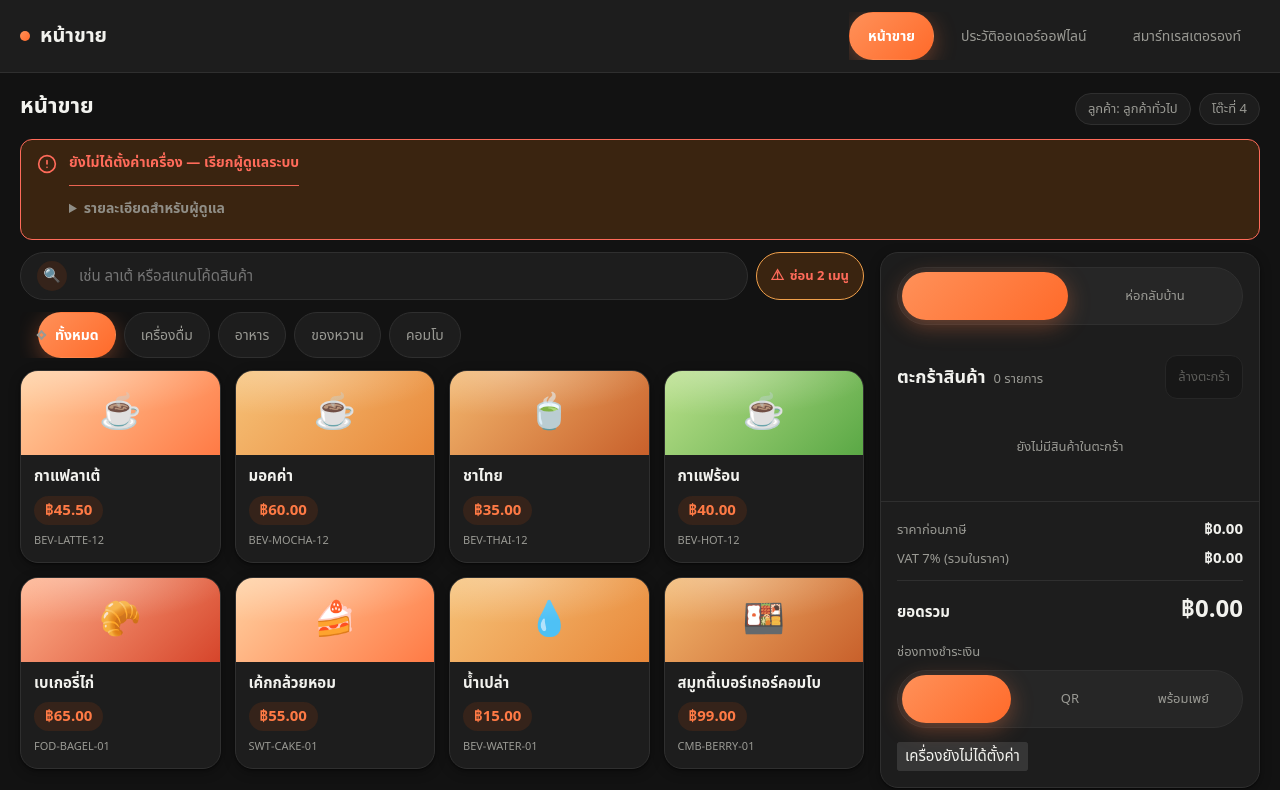
Test: AppShell — the nav › unmounts the sales screen, so coming back is an empty terminal
Click the button with aria-label "เพิ่ม กาแฟลาเต้" at [120, 466], box [20,370,220,562]
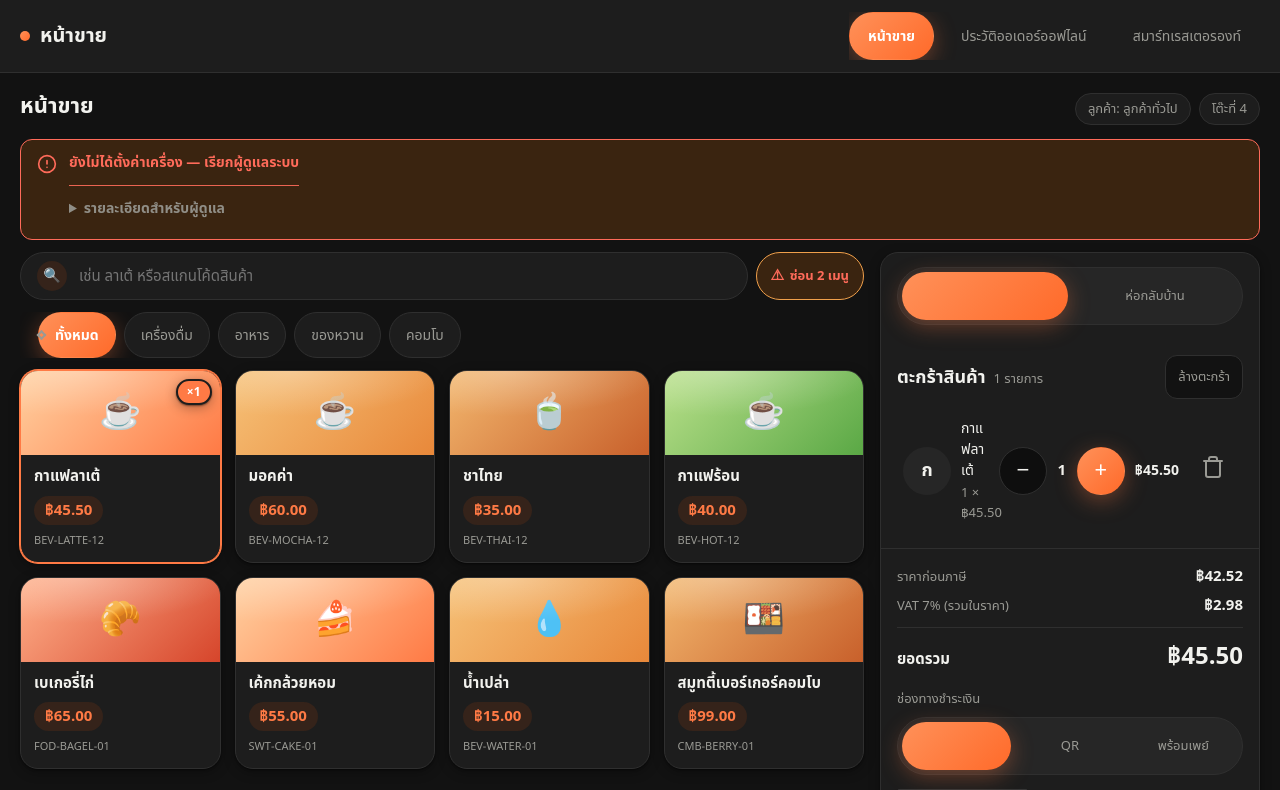
Expected: the text with test id "checkout-subtotal" reads "฿45.50", [1167,639,1243,675]
Click the button "ประวัติออเดอร์ออฟไลน์" at [1024, 36], box [942,12,1106,60]
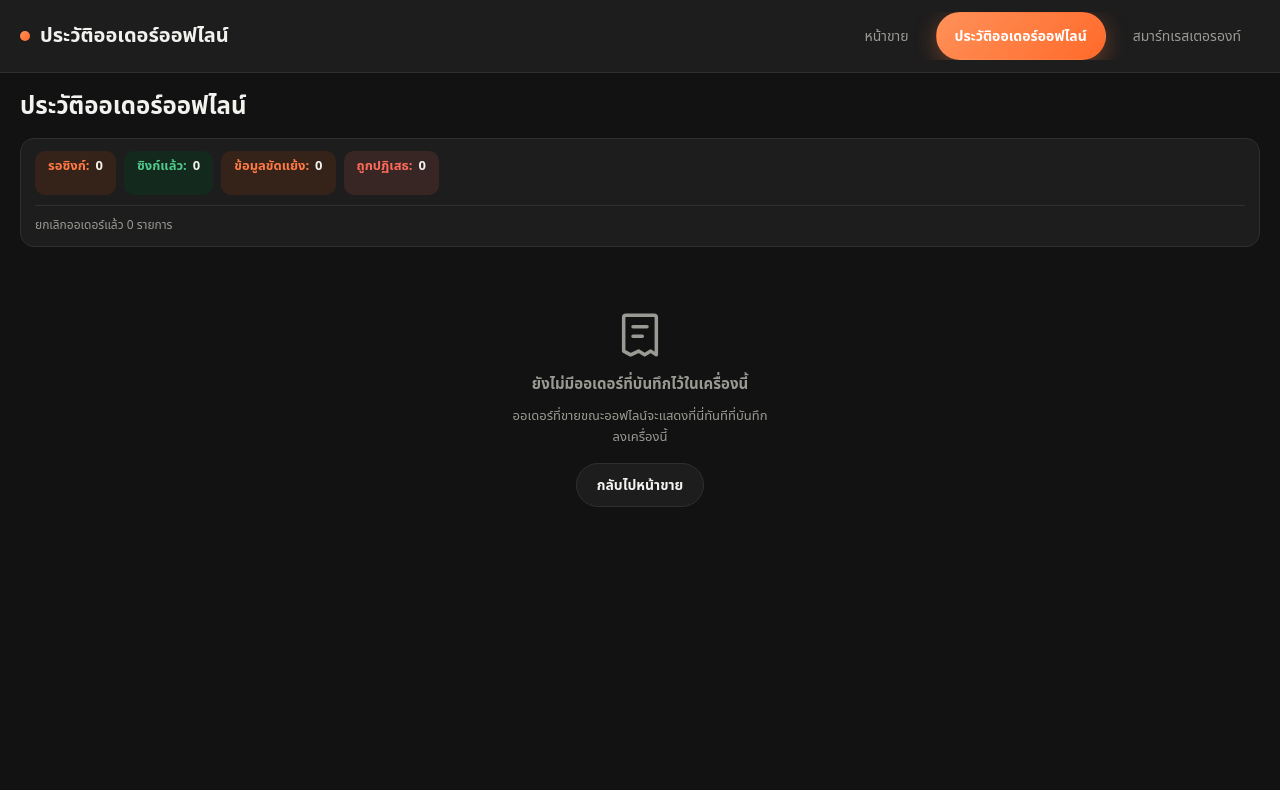
Click the button "หน้าขาย" at [887, 36], box [846,12,928,60]
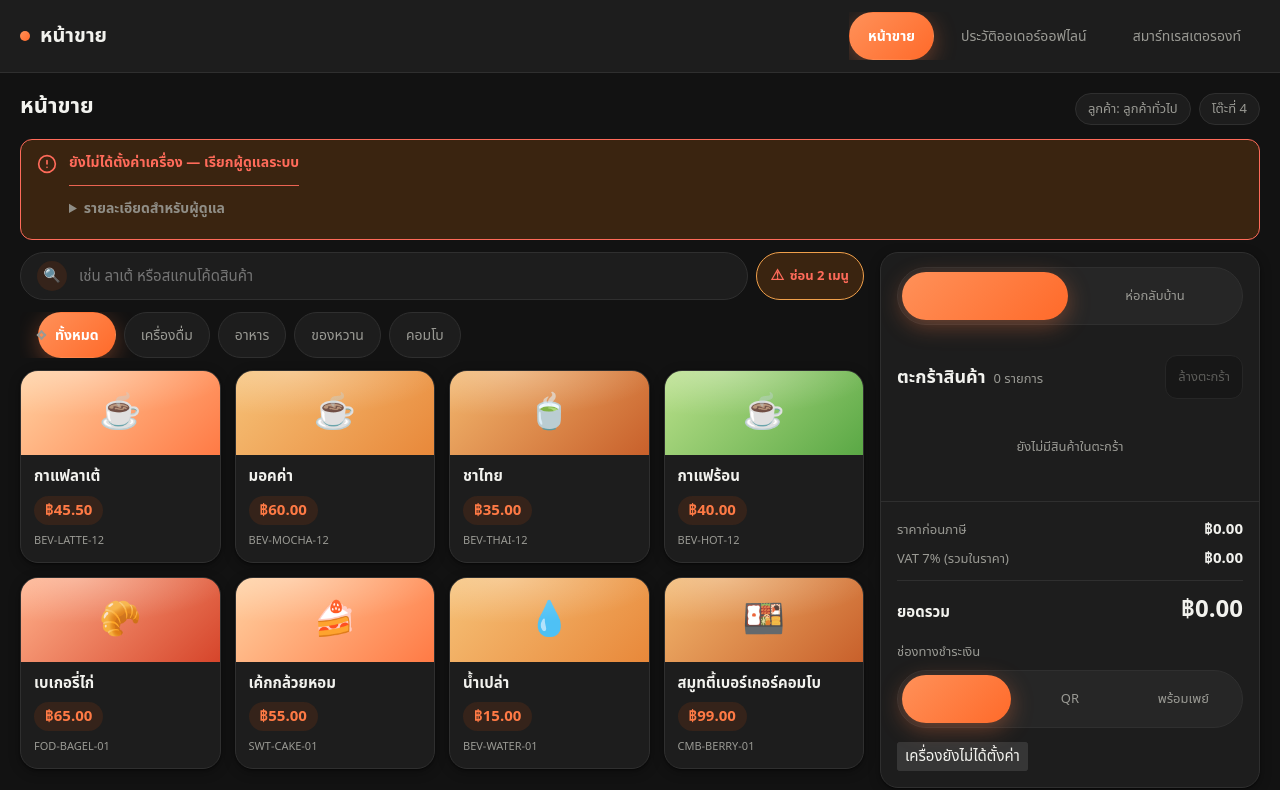
Expected: the text with test id "checkout-subtotal" reads "฿0.00", [1181,592,1243,628]
